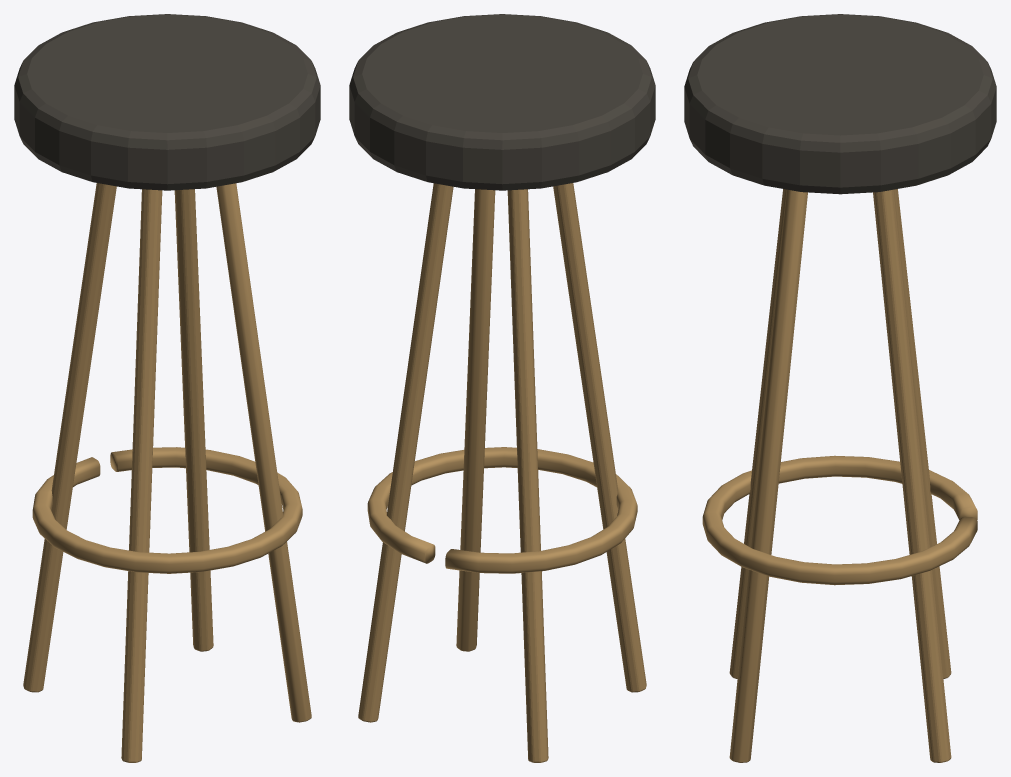
The model's file is bar-stool.glb.
The picture shows the model from 3 angles, left to right: view 1: azimuth 30°, elevation 25°; view 2: azimuth 150°, elevation 25°; view 3: azimuth 270°, elevation 25°; orthographic projection. The views are drawn at different scales.
Visible parts, largest first — view 1: stool_seat, stool_leg_2, stool_leg_3, stool_leg_1, stool_ring, stool_leg_0; view 2: stool_seat, stool_leg_1, stool_leg_0, stool_leg_2, stool_ring, stool_leg_3; view 3: stool_seat, stool_leg_0, stool_leg_3, stool_ring, stool_leg_2, stool_leg_1.
Part boxes in pixels (bbox=[...]): stool_seat: bbox=[14, 14, 320, 190]; stool_leg_2: bbox=[121, 189, 162, 762]; stool_leg_3: bbox=[216, 183, 311, 722]; stool_leg_1: bbox=[23, 183, 116, 692]; stool_ring: bbox=[32, 447, 302, 573]; stool_leg_0: bbox=[174, 189, 213, 651]; stool_seat: bbox=[349, 14, 655, 190]; stool_leg_1: bbox=[507, 189, 548, 762]; stool_leg_0: bbox=[358, 183, 453, 722]; stool_leg_2: bbox=[553, 183, 646, 692]; stool_ring: bbox=[367, 447, 637, 573]; stool_leg_3: bbox=[456, 189, 495, 651]; stool_seat: bbox=[684, 14, 996, 194]; stool_leg_0: bbox=[873, 189, 951, 762]; stool_leg_3: bbox=[729, 189, 807, 762]; stool_ring: bbox=[702, 455, 977, 585]; stool_leg_2: bbox=[729, 189, 786, 678]; stool_leg_1: bbox=[894, 189, 951, 678].
Bounding box in the file's own units: 0.34 × 0.773 × 0.34.
